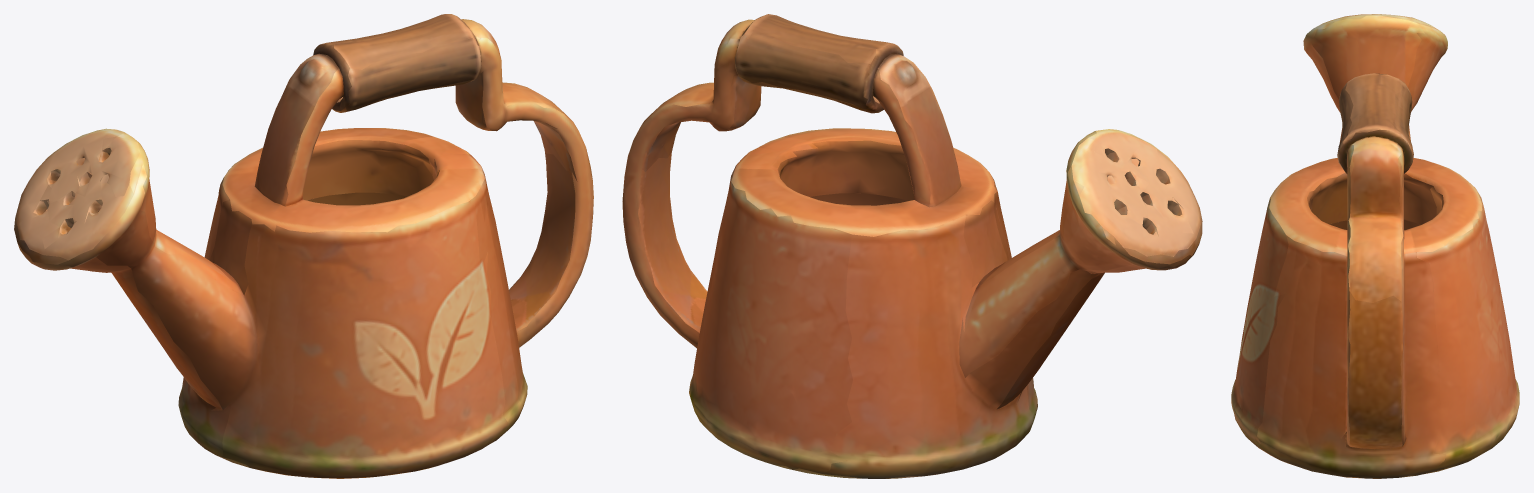
The picture shows the model from 3 angles, left to right: view 1: azimuth 30°, elevation 25°; view 2: azimuth 150°, elevation 25°; view 3: azimuth 270°, elevation 25°; orthographic projection. The views are drawn at different scales.
Visible parts, largest first — view 1: geometry_0; view 2: geometry_0; view 3: geometry_0.
Boxes of the visible parts, left/top/right/bottom form: geometry_0: left=14, top=14, right=593, bottom=478; geometry_0: left=622, top=14, right=1202, bottom=478; geometry_0: left=1231, top=14, right=1519, bottom=478.
Bounding box in the file's own units: 0.28 × 0.1791 × 0.1405.
1 material, 1 textured.
